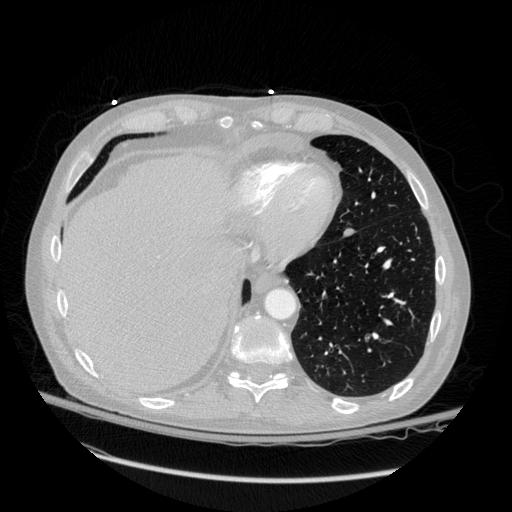nodule: (341, 225, 356, 240)
